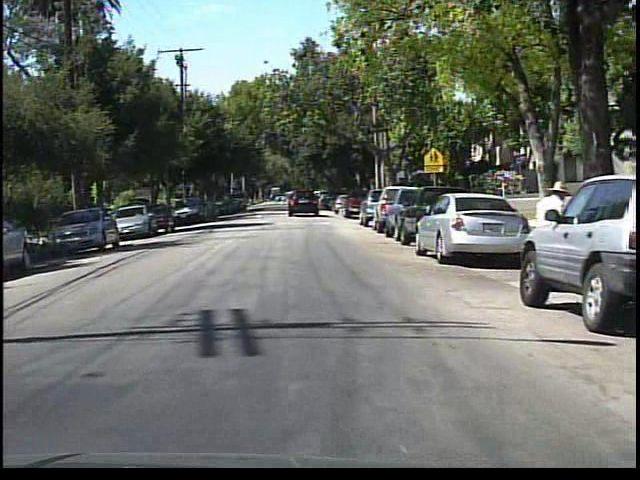person: (530, 176, 572, 301)
